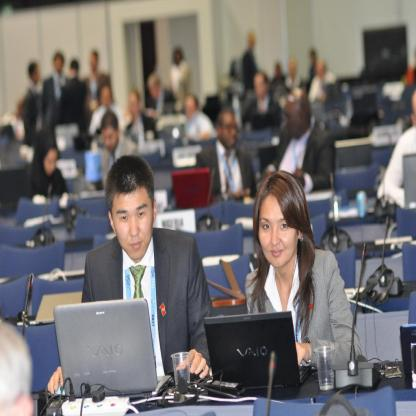board: (53, 298, 172, 396), (202, 312, 307, 399), (172, 168, 214, 208), (401, 325, 416, 377), (358, 190, 368, 219)
